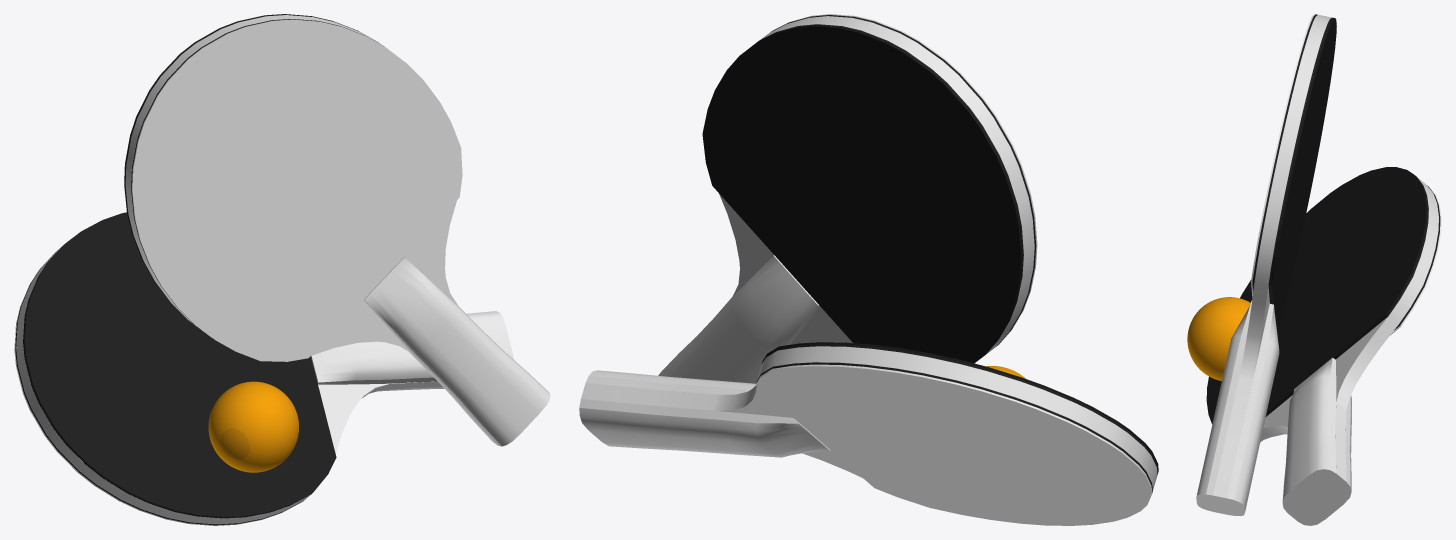
File: Ping_Pong_Paddle.fbx
3 views of the same model, side by side, from view 1: azimuth 30°, elevation 25°; view 2: azimuth 150°, elevation 25°; view 3: azimuth 270°, elevation 25° (orthographic). The views are drawn at different scales.
Visible parts, largest first — view 1: red rubber, rubber 4, ping-pong paddle red, handle 1, ping pong ball, handle 2, ping-pong paddle blue, rubber 3, rubber 1, blue rubber; view 2: rubber 2, blue rubber, ping-pong paddle blue, handle 2, ping-pong paddle red, handle 1, rubber 3, rubber 1, rubber 4, red rubber; view 3: rubber 4, handle 1, ping-pong paddle blue, ping-pong paddle red, handle 2, rubber 2, ping pong ball, rubber 1, rubber 3, red rubber.
Part boxes in pixels (x1,y1,x2,y2): red rubber: (132,19,462,361); rubber 4: (24,212,336,517); ping-pong paddle red: (364,256,550,446); handle 1: (125,15,534,445); ping pong ball: (208,381,298,472); handle 2: (16,245,442,524); ping-pong paddle blue: (311,311,513,391); rubber 3: (15,247,311,525); rubber 1: (124,14,380,328); blue rubber: (14,252,303,525); rubber 2: (702,25,1022,363); blue rubber: (755,364,1151,525); ping-pong paddle blue: (579,370,830,457); handle 2: (581,346,1157,490); ping-pong paddle red: (658,255,819,383); handle 1: (677,16,1034,359); rubber 3: (756,344,1157,493); rubber 1: (758,15,1036,355); rubber 4: (762,342,1158,472); red rubber: (772,14,1037,344); rubber 4: (1206,167,1427,423); handle 1: (1213,14,1331,514); ping-pong paddle blue: (1282,357,1351,525); ping-pong paddle red: (1196,300,1279,515); handle 2: (1260,177,1438,521); rubber 2: (1270,18,1336,331); ping pong ball: (1187,297,1250,380); rubber 1: (1252,14,1333,303); rubber 3: (1265,176,1440,416); red rubber: (1251,14,1315,298).
Size of the model in its own units: 24 by 21.85 by 11.94.
